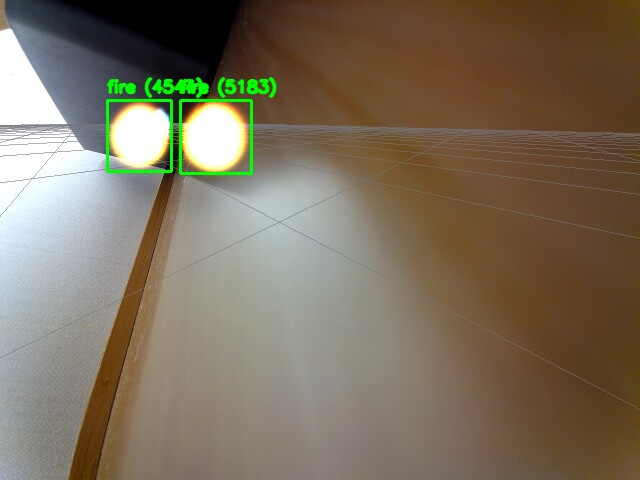fire: (180, 100, 251, 173), (107, 100, 171, 171)
